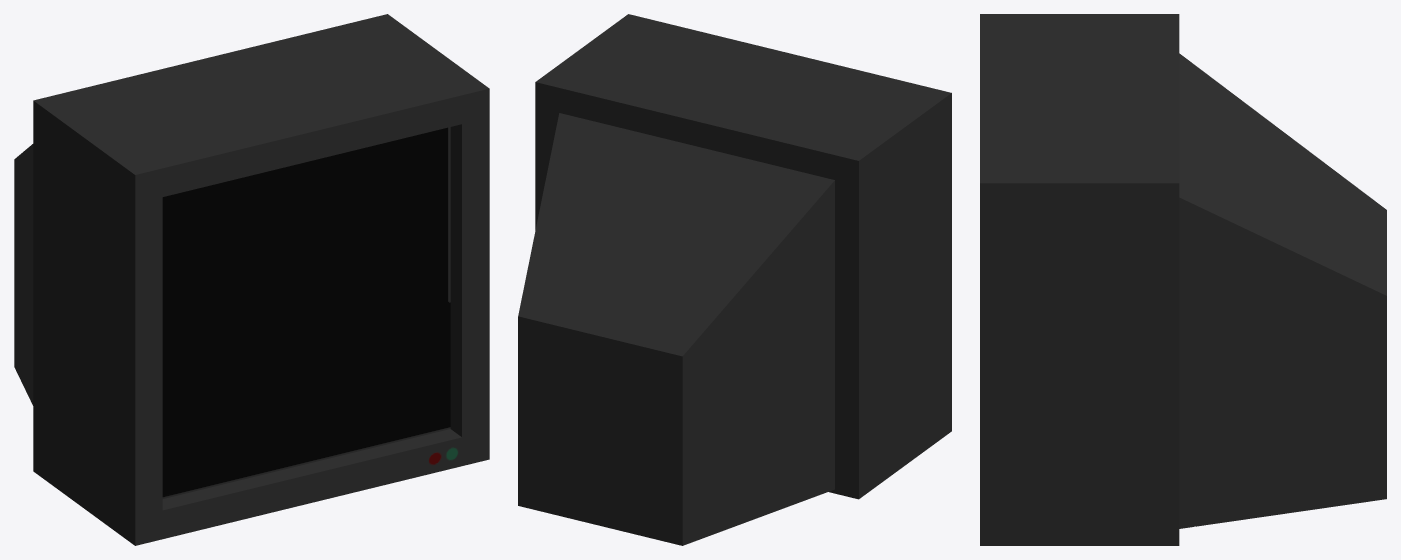
The model's file is television.obj.
3 renders of one model, left to right at view 1: azimuth 30°, elevation 25°; view 2: azimuth 150°, elevation 25°; view 3: azimuth 270°, elevation 25°, orthographic. The views are drawn at different scales.
Parts seen in each view (by area): view 1: Cube; view 2: Cube; view 3: Cube.
Boxes of the visible parts, x1,y1,x2,y2 form: Cube: (14,14,489,545); Cube: (518,14,951,545); Cube: (980,14,1386,545).
Bounding box in the file's own units: 0.8979 × 0.8979 × 0.9125.
